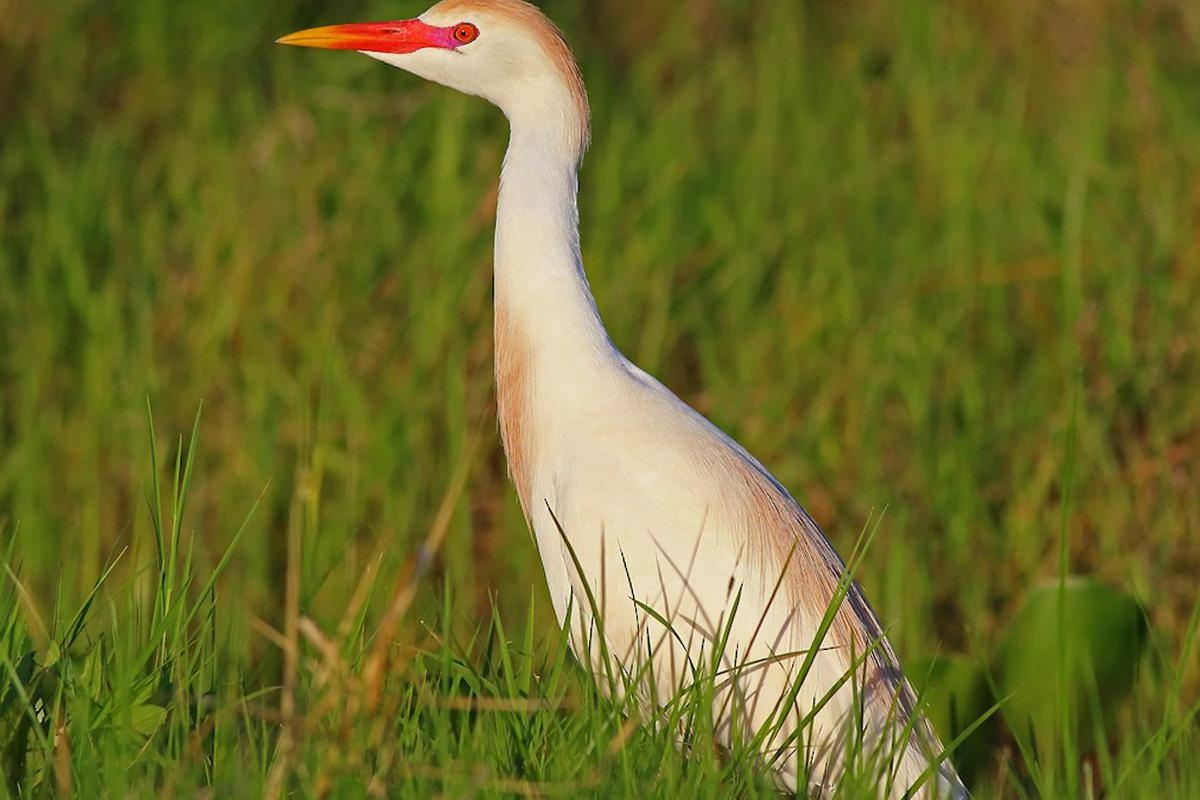egret: (268, 1, 999, 800)
